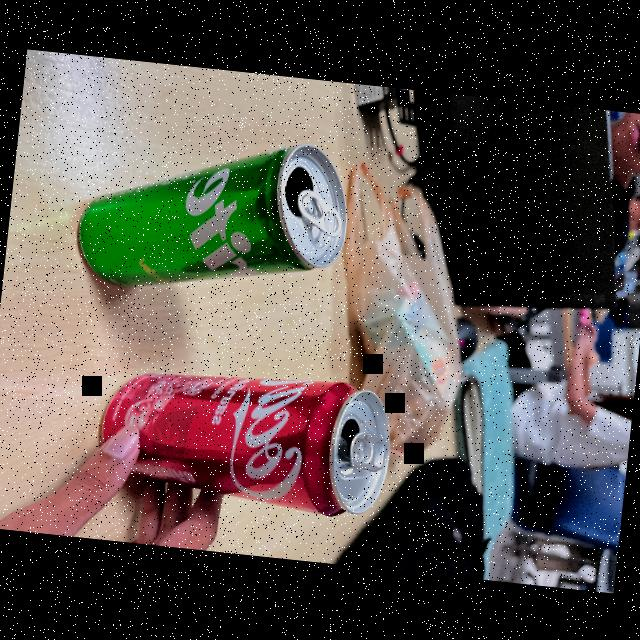can: (70, 104, 369, 328), (81, 349, 406, 536)
